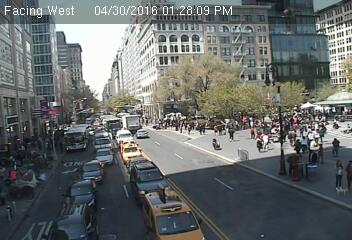neg: (1, 96, 14, 115), (46, 98, 59, 115), (14, 98, 26, 113), (39, 63, 45, 71)
pos: (326, 157, 351, 192), (327, 136, 343, 157), (340, 158, 351, 186), (258, 130, 273, 150), (307, 134, 322, 154), (293, 137, 304, 151), (227, 127, 237, 140), (299, 133, 308, 145)
